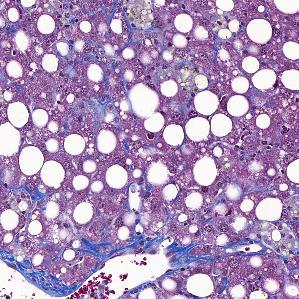fibrosis: (85, 222, 168, 255)
